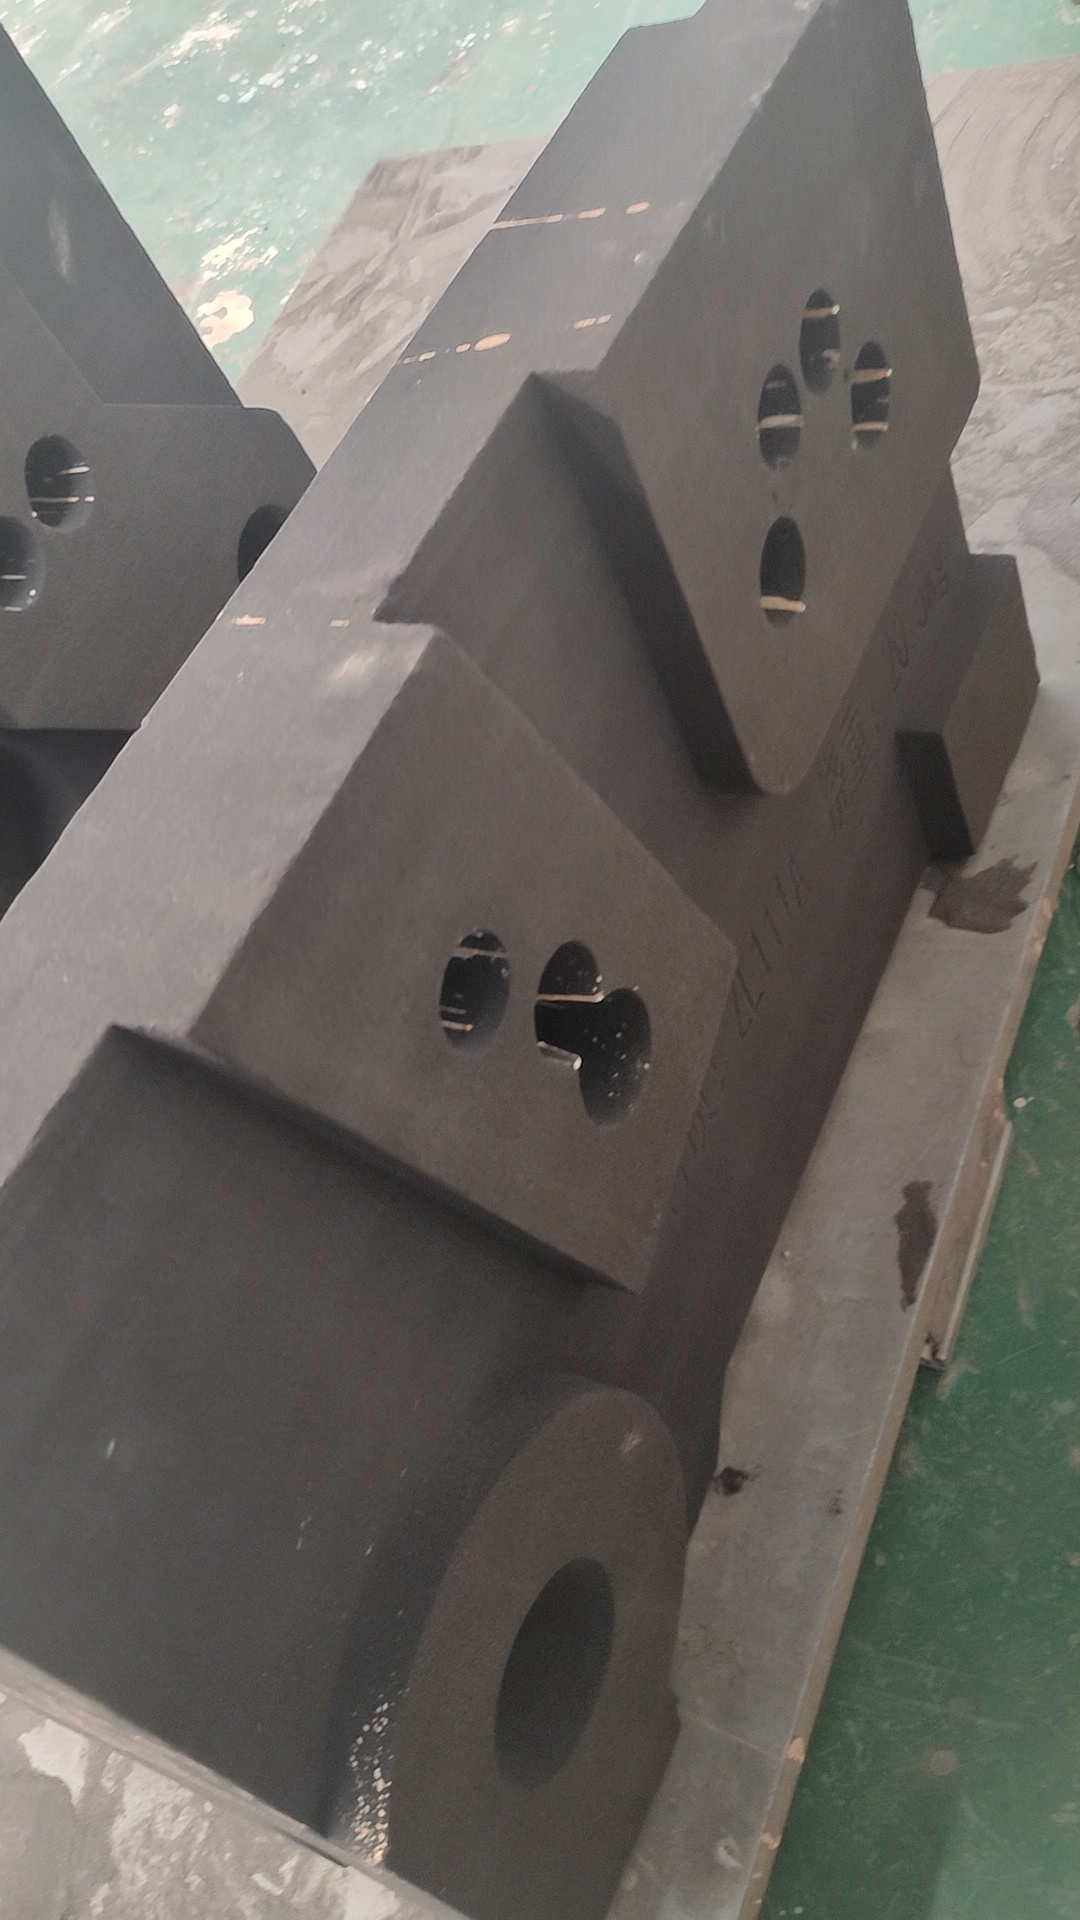pouring hole: (493, 1557, 617, 1793), (236, 502, 313, 597)
